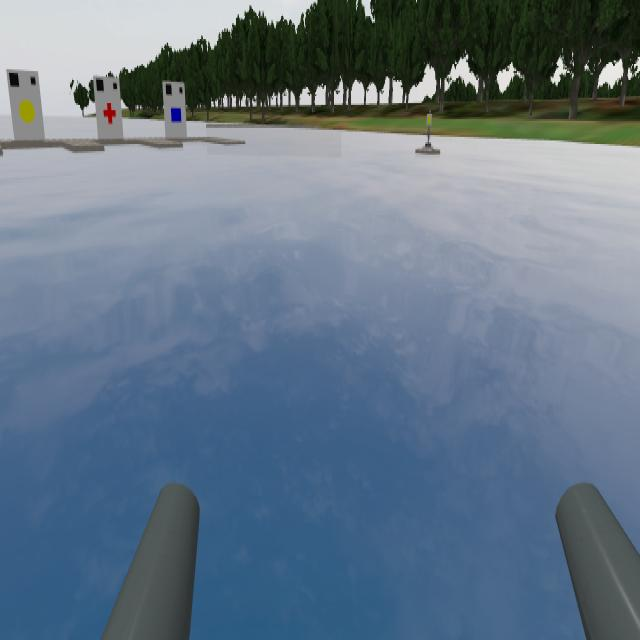yellow_pole: (422, 108, 437, 136)
